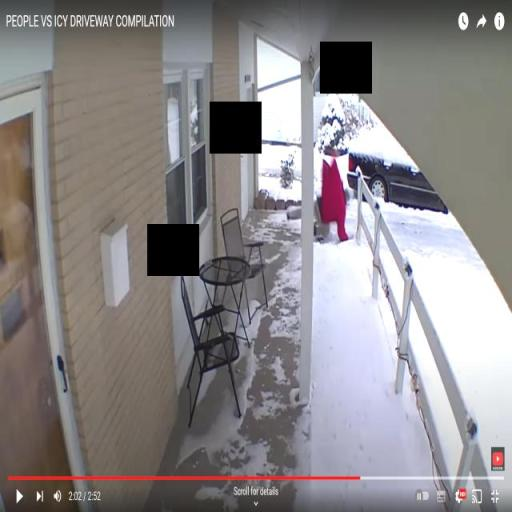Fall: (311, 147, 354, 246)
